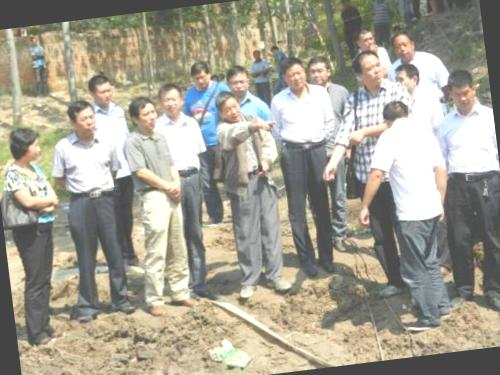no_helmet: (442, 64, 482, 118), (6, 122, 44, 169), (63, 96, 101, 142), (126, 92, 163, 138), (351, 47, 389, 90), (155, 78, 190, 122), (211, 87, 247, 127), (86, 68, 118, 111), (275, 54, 310, 92), (392, 60, 424, 98), (304, 54, 334, 92), (224, 60, 253, 99), (379, 97, 411, 132), (387, 29, 419, 64), (186, 58, 215, 90), (350, 22, 377, 54)
